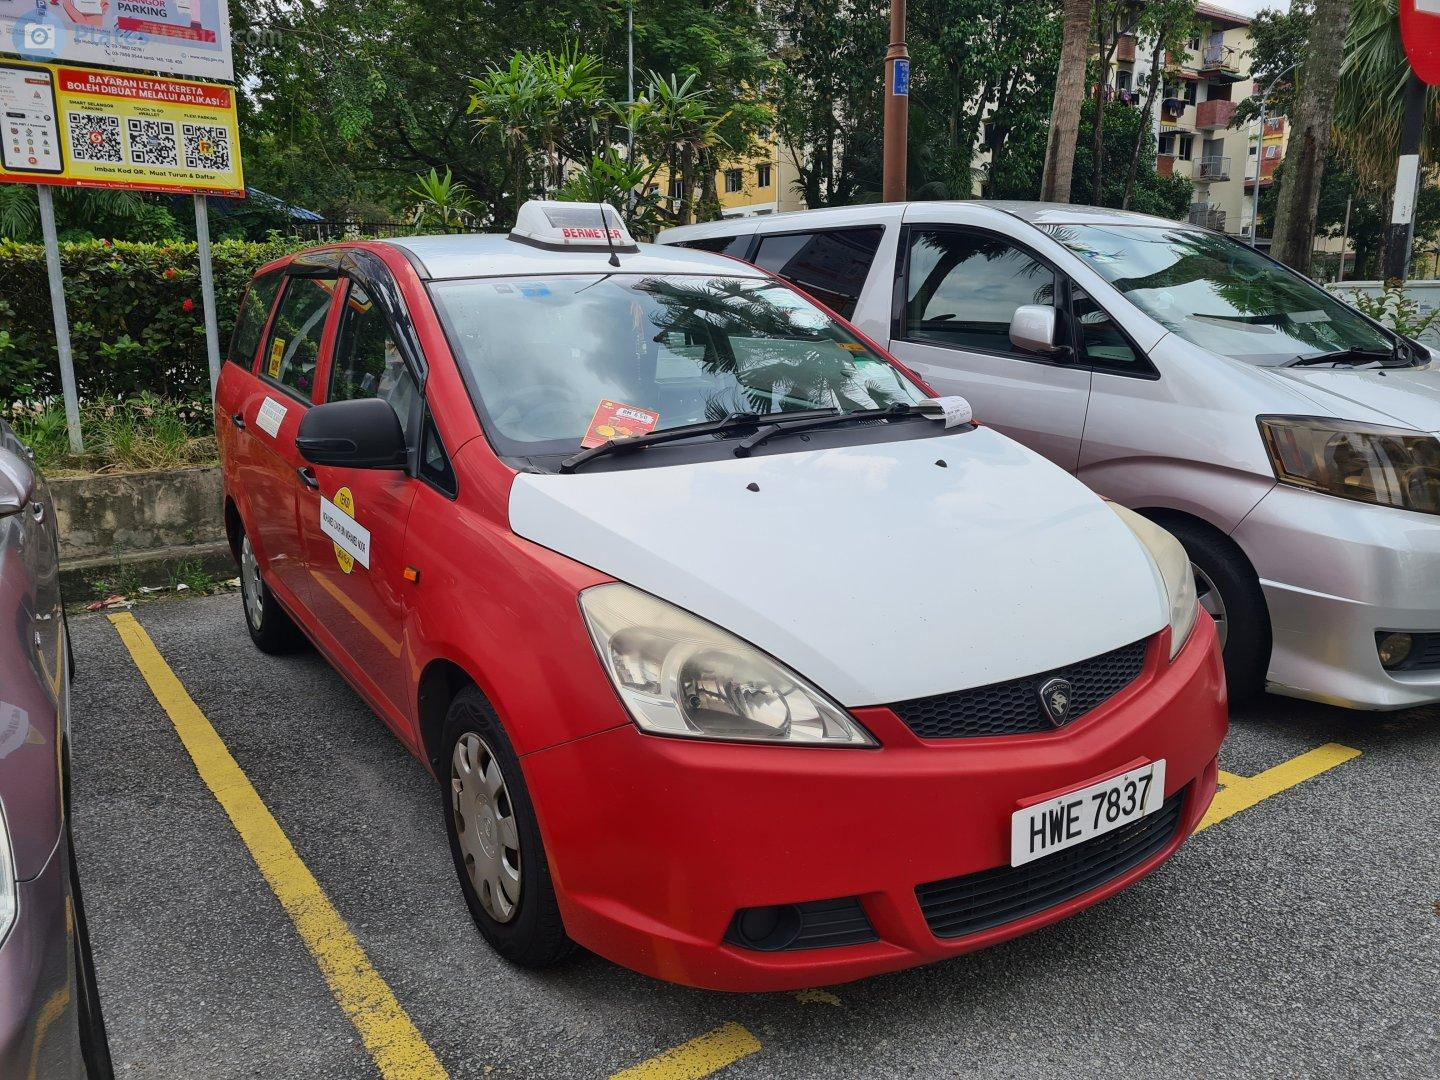License Plate: (1013, 761, 1166, 868)
